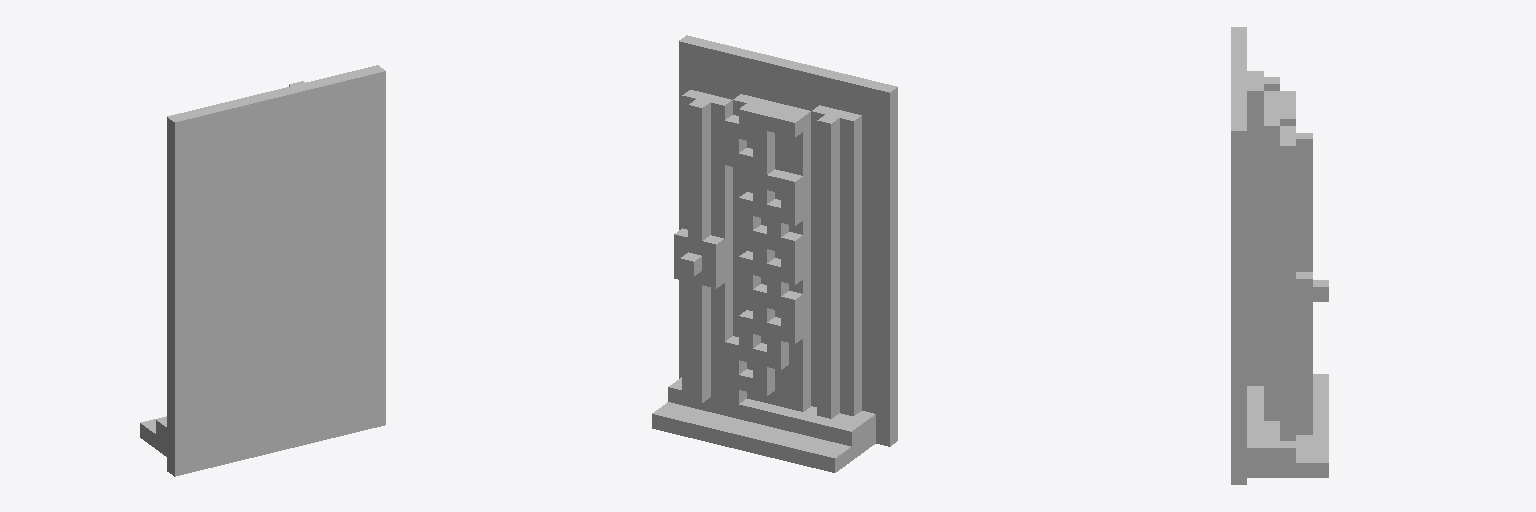
File: door.obj
The picture shows the model from 3 angles: view 1: azimuth 30°, elevation 25°; view 2: azimuth 150°, elevation 25°; view 3: azimuth 270°, elevation 25°; orthographic projection.
Visible parts, largest first — view 1: door; view 2: door; view 3: door.
Part boxes in pixels (x1,y1,x2,y2): door: (140, 65, 385, 476); door: (652, 35, 897, 472); door: (1231, 27, 1328, 484).
Size of the model in its own units: 15 by 24 by 6.